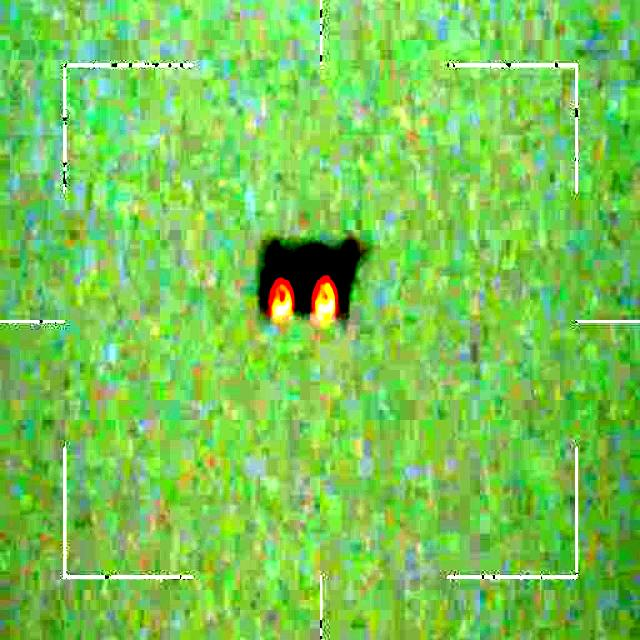bird: (259, 239, 359, 320)
